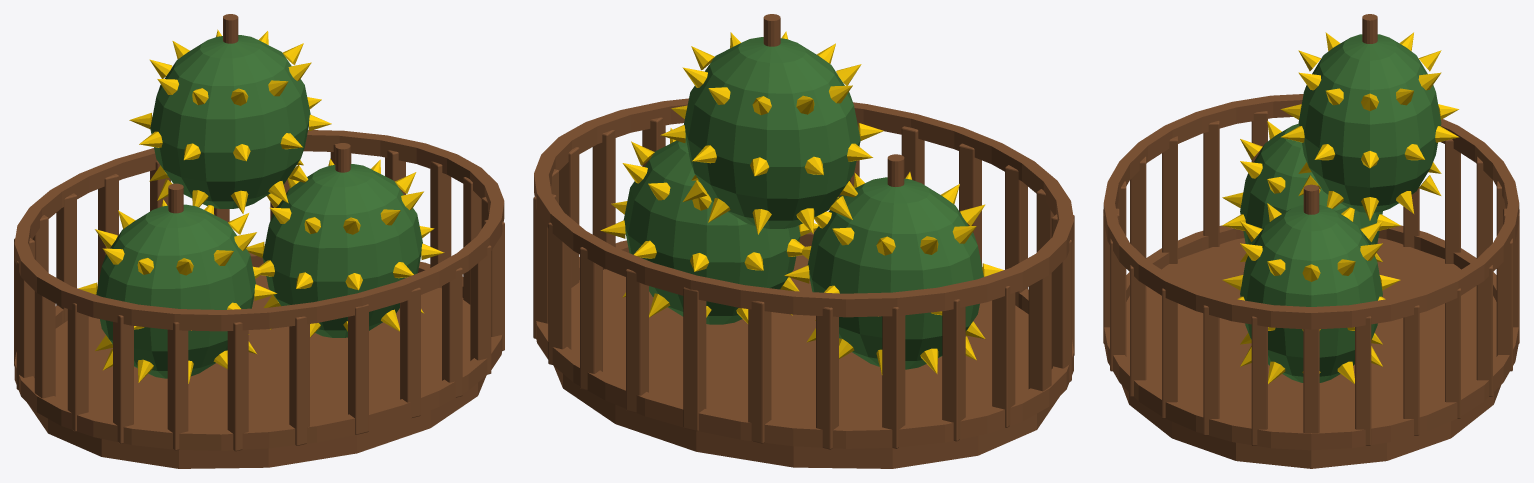
Rendered from durian-display-basket.glb.
3 renders of one model, left to right at view 1: azimuth 30°, elevation 25°; view 2: azimuth 150°, elevation 25°; view 3: azimuth 270°, elevation 25°, orthographic. The views are drawn at different scales.
Visible parts, largest first — view 1: Basket_Base, Durian_2, Wicker_Rim.001, Durian_1, Durian_0, Wicker_Rim, Wicker_Slat.016, Wicker_Slat.018, Wicker_Slat.017, Wicker_Slat.015, Wicker_Slat.019, Wicker_Slat.013 (+12 smaller); view 2: Basket_Base, Durian_2, Wicker_Rim.001, Durian_0, Durian_1, Wicker_Rim, Wicker_Slat.006, Wicker_Slat.007, Wicker_Slat.009, Wicker_Slat.010, Wicker_Slat.008, Wicker_Slat.005 (+15 smaller); view 3: Basket_Base, Durian_2, Wicker_Rim.001, Durian_1, Wicker_Rim, Durian_0, Wicker_Slat.014, Wicker_Slat.001, Wicker_Slat.023, Wicker_Slat.002, Wicker_Slat.022, Wicker_Slat.015 (+16 smaller).
Boxes of the visible parts, x1,y1,x2,y2 form: Basket_Base: [27, 267, 486, 468]; Durian_2: [150, 35, 310, 208]; Wicker_Rim.001: [14, 130, 504, 331]; Durian_1: [262, 164, 422, 337]; Durian_0: [96, 204, 255, 378]; Wicker_Rim: [14, 252, 502, 450]; Wicker_Slat.016: [227, 322, 248, 451]; Wicker_Slat.018: [348, 304, 368, 434]; Wicker_Slat.017: [289, 316, 309, 445]; Wicker_Slat.015: [167, 322, 188, 450]; Wicker_Slat.019: [400, 287, 420, 417]; Wicker_Slat.013: [67, 303, 88, 431]; Basket_Base: [554, 246, 1059, 468]; Durian_2: [684, 37, 860, 228]; Wicker_Rim.001: [534, 98, 1073, 317]; Durian_0: [807, 177, 983, 369]; Durian_1: [623, 138, 800, 324]; Wicker_Rim: [536, 230, 1073, 448]; Wicker_Slat.006: [683, 287, 706, 431]; Wicker_Slat.007: [748, 301, 771, 443]; Wicker_Slat.009: [882, 307, 905, 448]; Wicker_Slat.010: [942, 299, 965, 441]; Wicker_Slat.008: [816, 307, 838, 449]; Wicker_Slat.005: [626, 269, 648, 412]; Basket_Base: [1122, 238, 1500, 468]; Durian_2: [1298, 34, 1441, 212]; Wicker_Rim.001: [1103, 94, 1519, 329]; Durian_1: [1240, 205, 1382, 382]; Wicker_Rim: [1104, 225, 1518, 450]; Durian_0: [1240, 123, 1382, 244]; Wicker_Slat.014: [1203, 121, 1219, 248]; Wicker_Slat.001: [1355, 316, 1371, 445]; Wicker_Slat.023: [1251, 316, 1267, 445]; Wicker_Slat.002: [1403, 305, 1419, 435]; Wicker_Slat.022: [1203, 305, 1219, 435]; Wicker_Slat.015: [1162, 136, 1177, 263].
Size of the model in its own units: 0.8 by 0.59 by 0.641.
